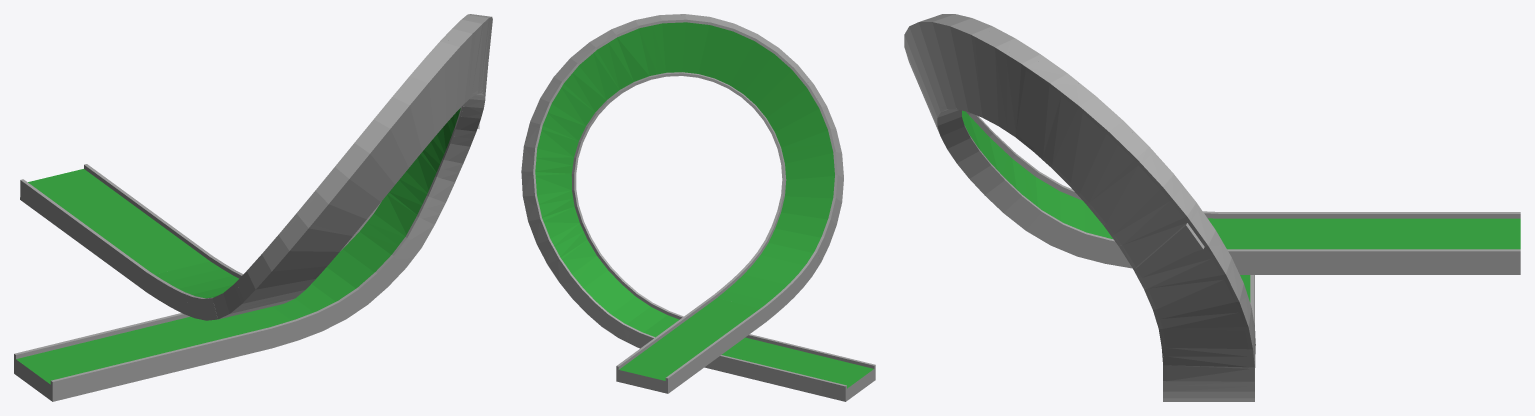
File: 90_Loop.fbx
The picture shows the model from 3 angles, left to right: view 1: azimuth 30°, elevation 25°; view 2: azimuth 150°, elevation 25°; view 3: azimuth 270°, elevation 25°; orthographic projection. The views are drawn at different scales.
Visible parts, largest first — view 1: tg_0027_Mlt_3; view 2: tg_0027_Mlt_3; view 3: tg_0027_Mlt_3.
Part boxes in pixels (x1,y1,x2,y2): tg_0027_Mlt_3: (14,14,492,401); tg_0027_Mlt_3: (521,14,875,401); tg_0027_Mlt_3: (904,14,1520,401).
Bounding box in the file's own units: 5.55 × 4.08 × 5.69.
